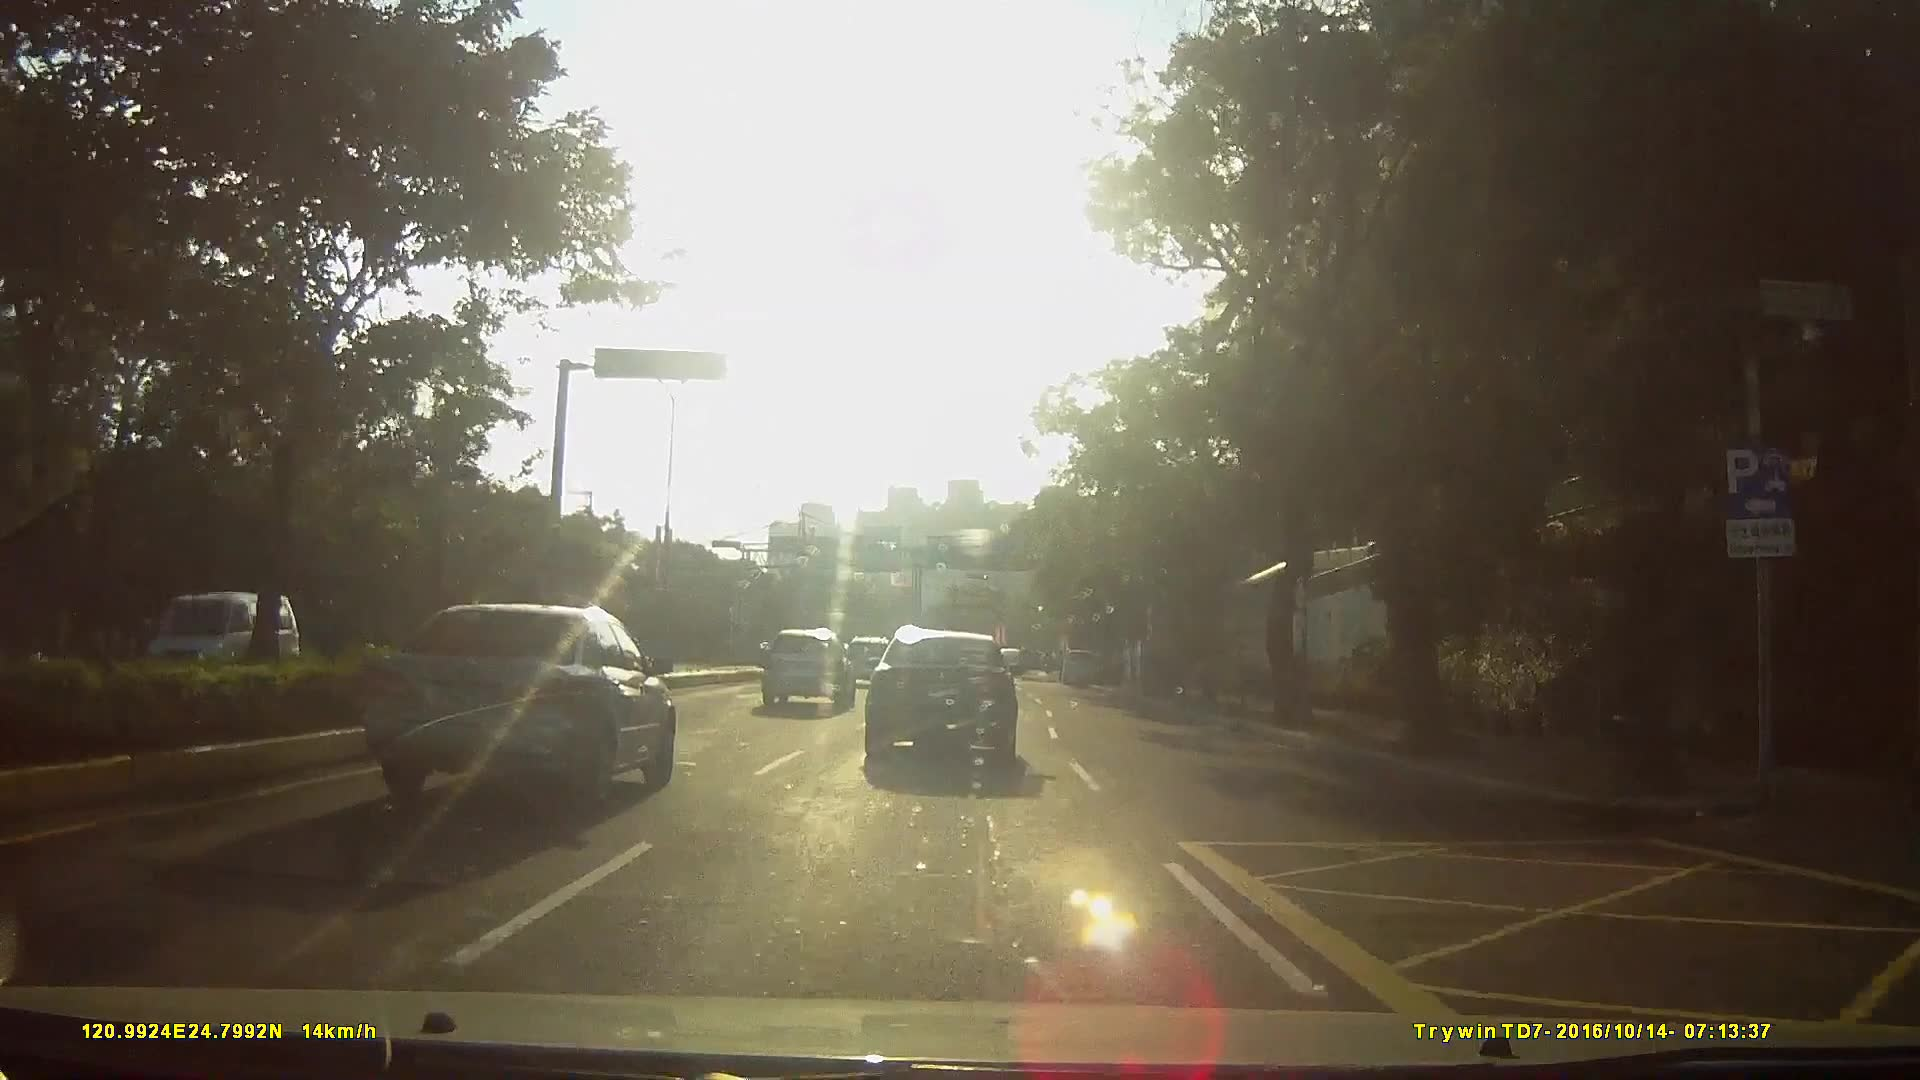vehicle: (367, 595, 676, 811), (866, 618, 1044, 766), (138, 591, 303, 705), (756, 624, 855, 711), (841, 629, 895, 684), (1060, 646, 1104, 686)
